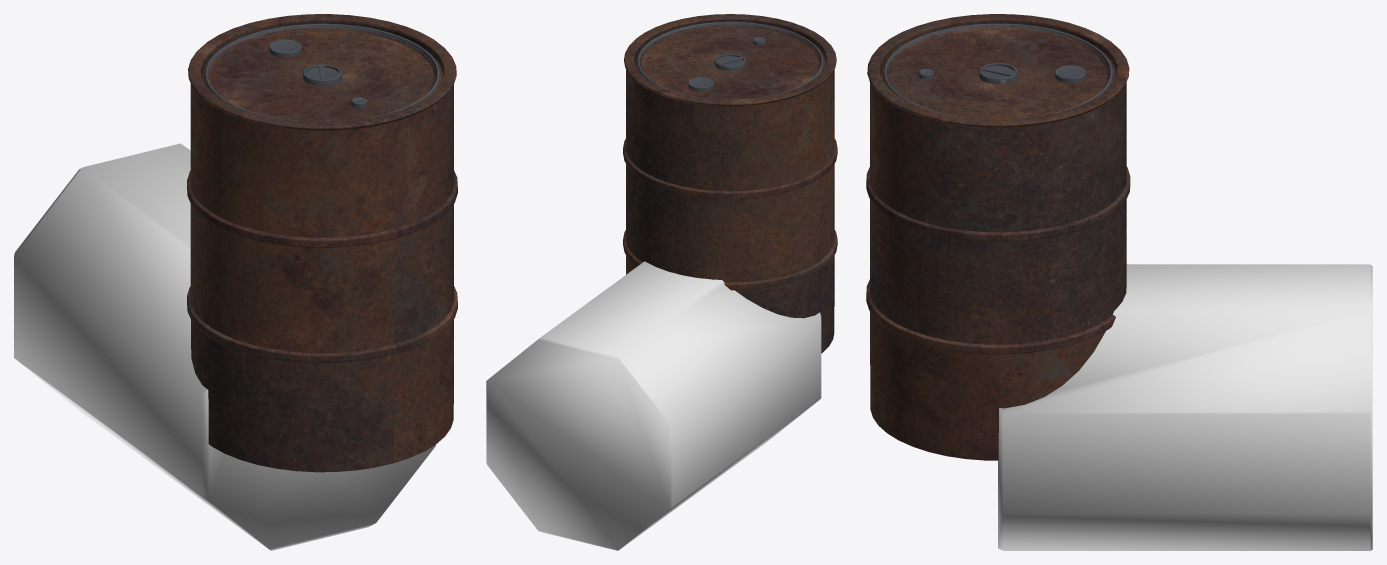
Rendered from SM_Barrel.fbx.
The picture shows the model from 3 angles, left to right: view 1: azimuth 30°, elevation 25°; view 2: azimuth 150°, elevation 25°; view 3: azimuth 270°, elevation 25°; orthographic projection. The views are drawn at different scales.
Visible parts, largest first — view 1: SM_Barrel, SM_Barrel_ConvexHulls; view 2: SM_Barrel_ConvexHulls, SM_Barrel; view 3: SM_Barrel, SM_Barrel_ConvexHulls.
Boxes of the visible parts, x1,y1,x2,y2 form: SM_Barrel: (187,14,457,472); SM_Barrel_ConvexHulls: (14,143,435,550); SM_Barrel_ConvexHulls: (486,261,821,550); SM_Barrel: (623,14,837,353); SM_Barrel: (866,14,1130,460); SM_Barrel_ConvexHulls: (998,264,1372,550).
Bounding box in the file's own units: 0.6575 × 1.26 × 1.26.
